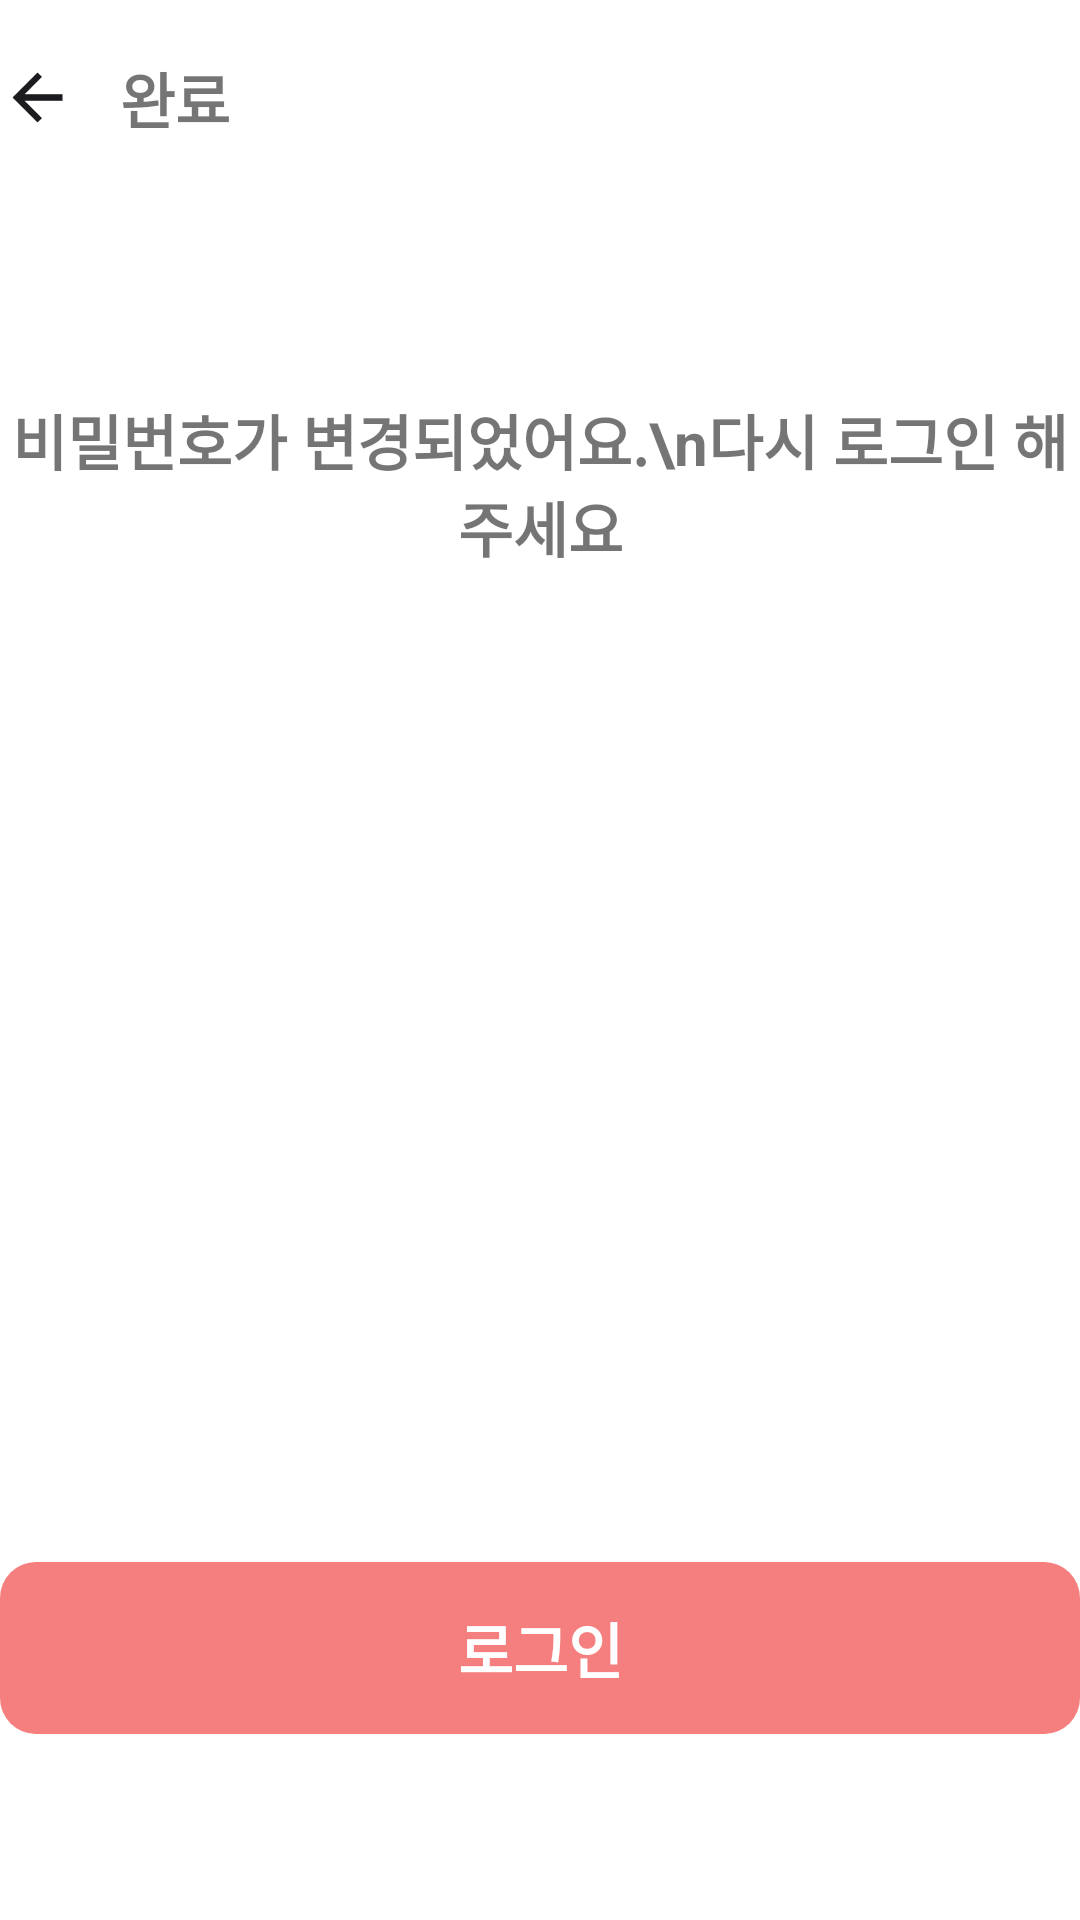

Icons on this 1080 × 1920 Android screen, each with its box as Rect(x1, y1, x2, y2):
back: Rect(12, 72, 63, 123)
